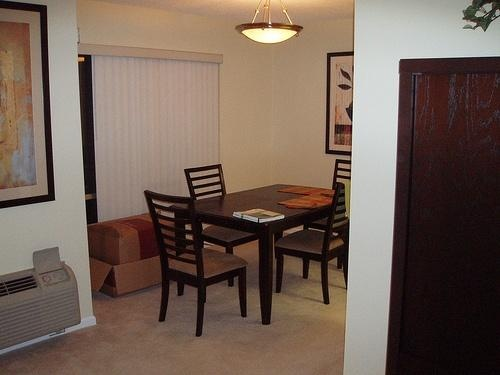chair: (141, 192, 252, 337), (181, 163, 267, 291), (274, 182, 352, 308), (328, 154, 358, 197)
diningtable: (167, 179, 348, 332)
